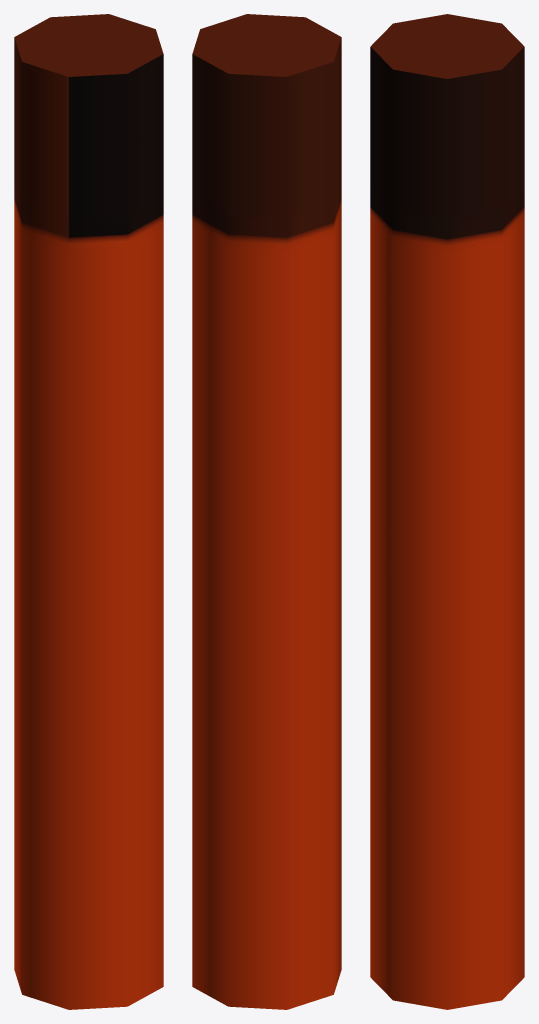
The picture shows the model from 3 angles, left to right: view 1: azimuth 30°, elevation 25°; view 2: azimuth 150°, elevation 25°; view 3: azimuth 270°, elevation 25°; orthographic projection.
Visible parts, largest first — view 1: Joint_0_Object_0; view 2: Joint_0_Object_0; view 3: Joint_0_Object_0.
Part boxes in pixels (x1,y1,x2,y2): Joint_0_Object_0: (14, 14, 163, 1009); Joint_0_Object_0: (192, 14, 341, 1009); Joint_0_Object_0: (370, 14, 524, 1009).
Size of the model in its own units: 60 by 400 by 60.
